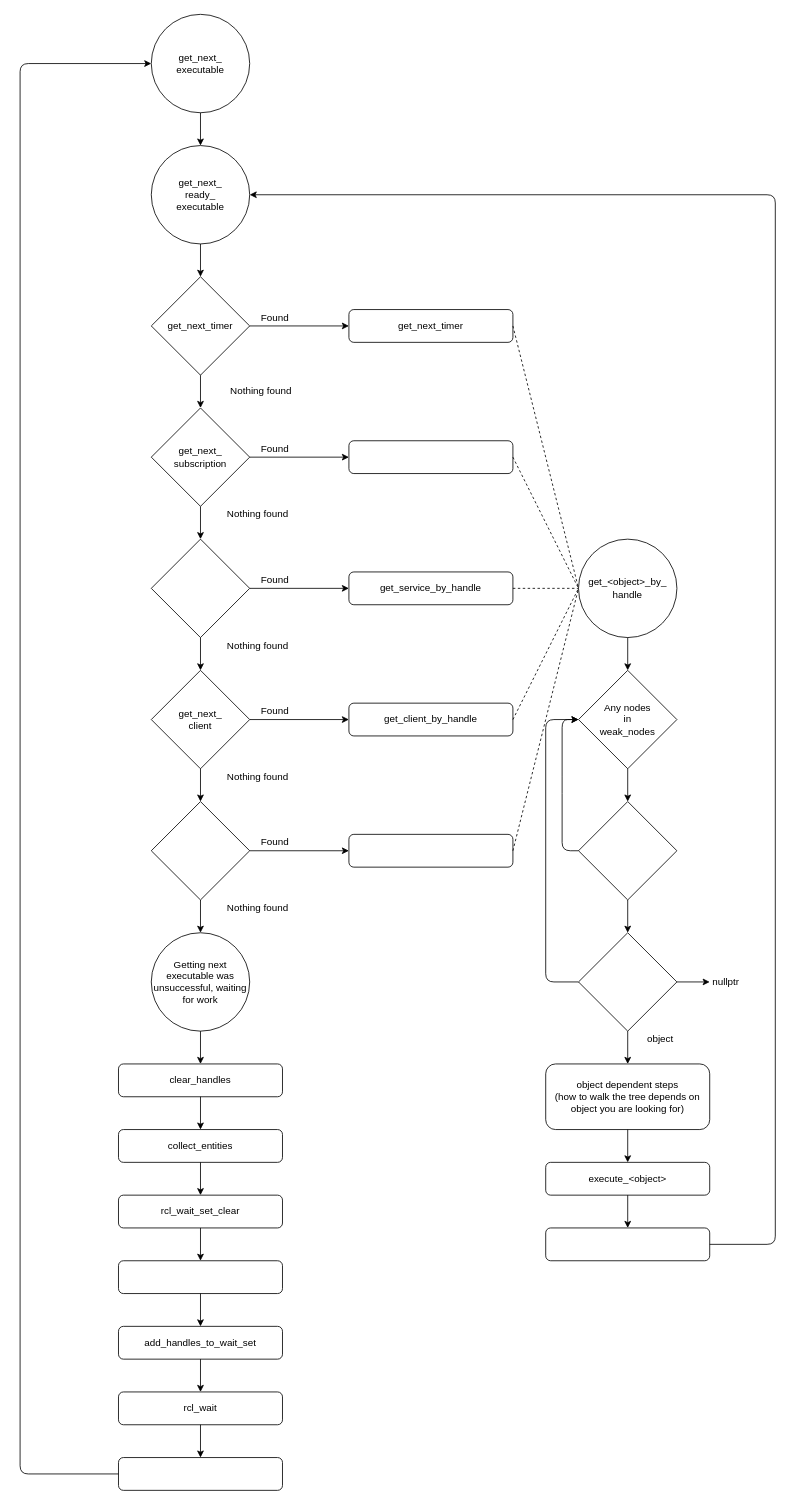
The diagram is 796 pixels wide and 1505 high, and some of its shapes have lost their labels. The shapes that lost their labels are listed below. From the top down, each one's centre as x and y in pixels, then its label:
At pixel 430 457: "get_subscription_by_handle".
At pixel 200 588: "get_next_ service".
At pixel 200 850: "get_next_ waitable".
At pixel 430 850: "get_waitable_by_handle".
At pixel 627 850: "Any callback_group in callback_groups".
At pixel 627 981: "Any <object> in <objects>".
At pixel 627 1244: "Reset callback_group regardless of type".
At pixel 200 1277: "rcl_wait_set_resize".
At pixel 200 1473: "remove_null_handles".
